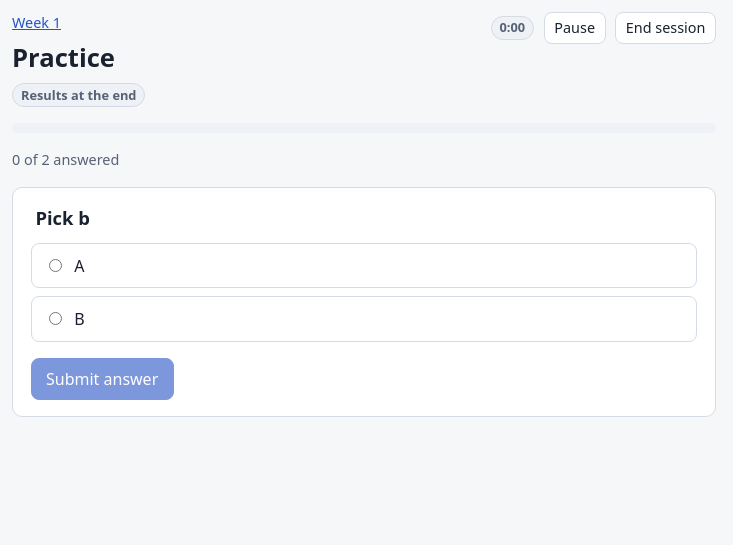
end mode › says the answer was saved and shows no verdict, answer, or explanation
Click the radio button labelled "A" at (55,265), box [49,259,62,272]
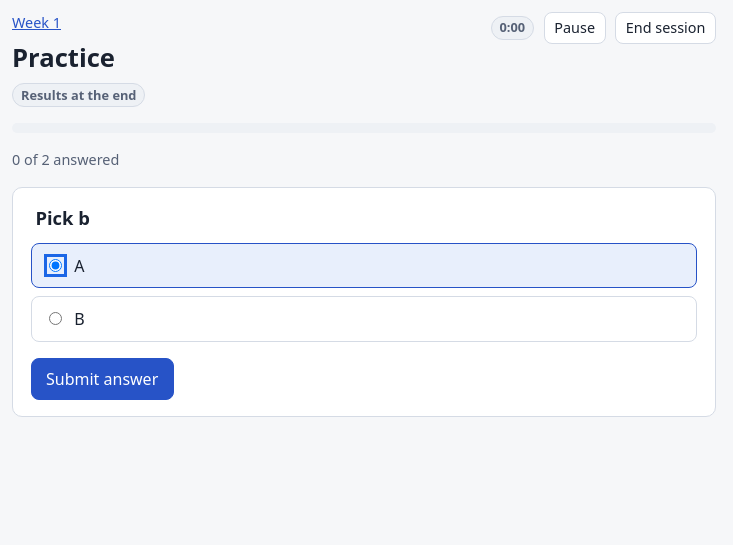
Click the button "Submit answer" at (102,379), box [31,358,174,400]
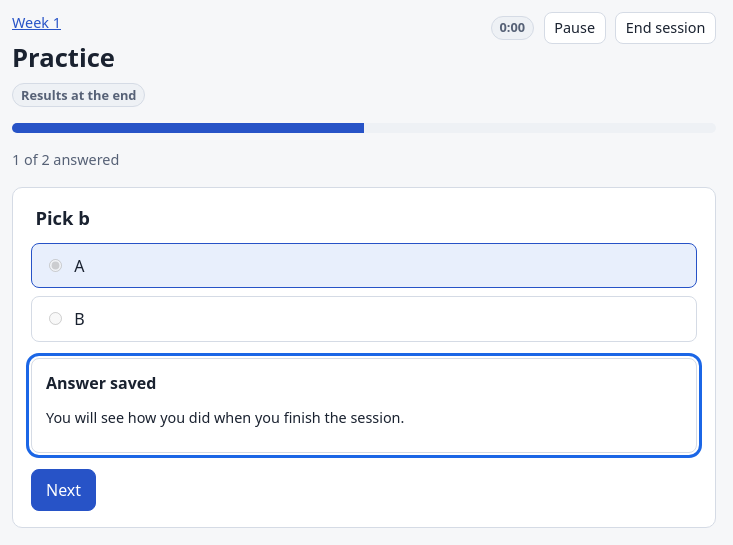
Expected: the text "Answer saved" is shown, [46,372,156,394]
Expected: the text "You will see how you did when you finish the session." is shown, [46,408,404,427]
Expected: the button "Next" is shown, [31,469,96,511]
